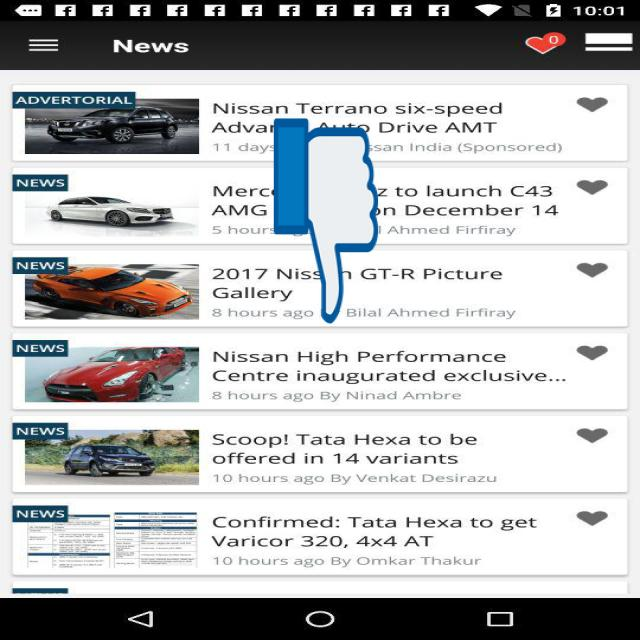obstruction: (274, 114, 378, 328)
